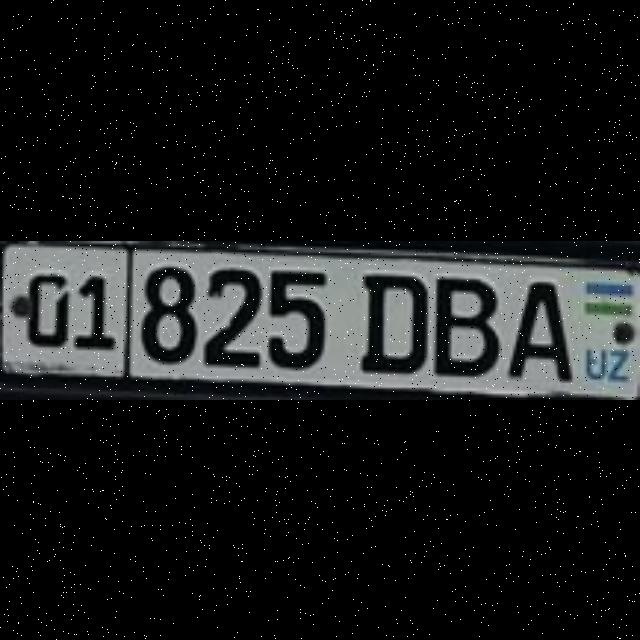0: (24, 269, 64, 343)
1: (70, 272, 111, 346)
2: (198, 264, 256, 364)
5: (265, 267, 321, 367)
8: (136, 264, 192, 360)
A: (501, 278, 569, 376)
B: (430, 273, 496, 373)
D: (360, 270, 424, 370)
